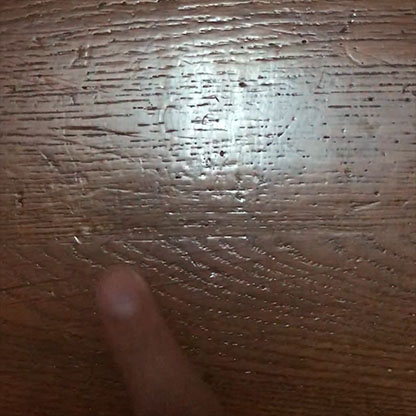fingertip: (86, 264, 159, 330)
